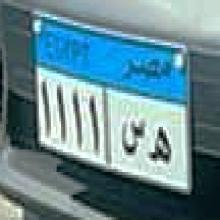1: (88, 95, 100, 155), (56, 85, 65, 144), (74, 90, 82, 150), (41, 81, 49, 134)
haa: (146, 125, 175, 166)
seen: (118, 117, 144, 157)
